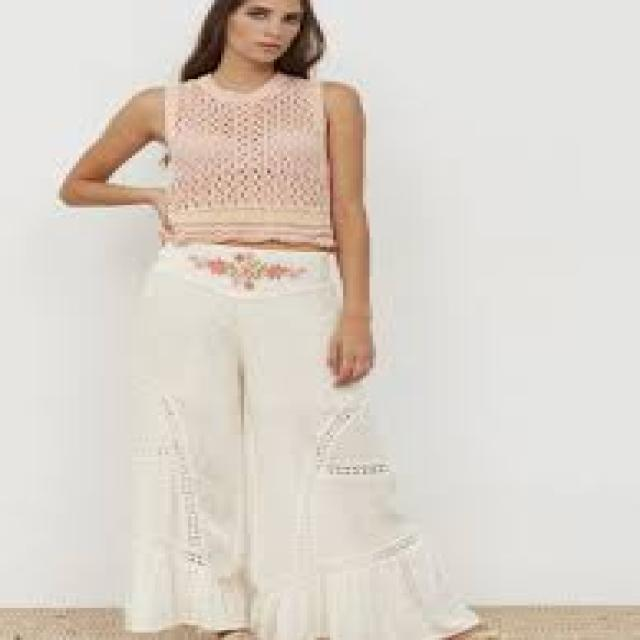long-pants: (128, 238, 480, 640)
